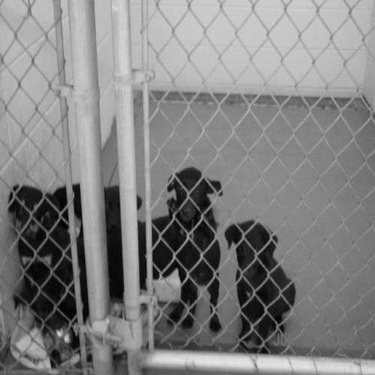dog: (139, 159, 230, 328), (221, 217, 301, 358), (7, 173, 76, 331), (95, 175, 145, 305), (57, 178, 98, 309)
